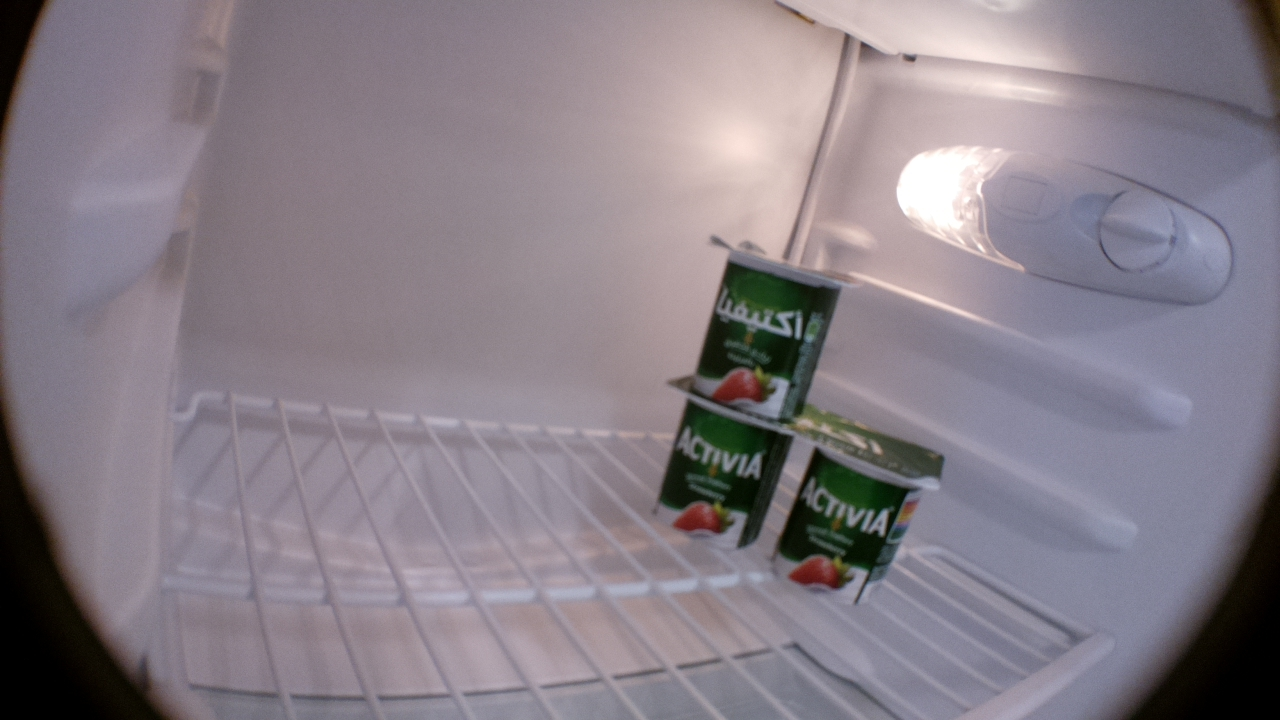yoghurt: (770, 409, 946, 605), (690, 235, 857, 417), (646, 378, 802, 550)
